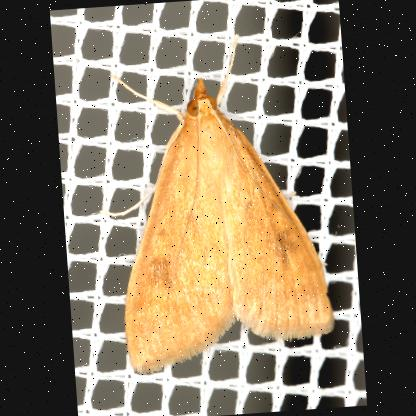Asian Corn Borer Moth: (85, 26, 340, 379)
